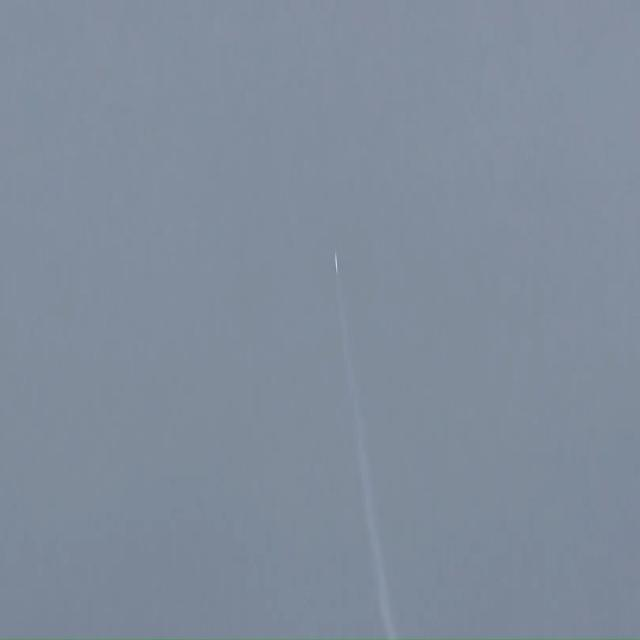Rocket: (334, 250, 338, 274)
